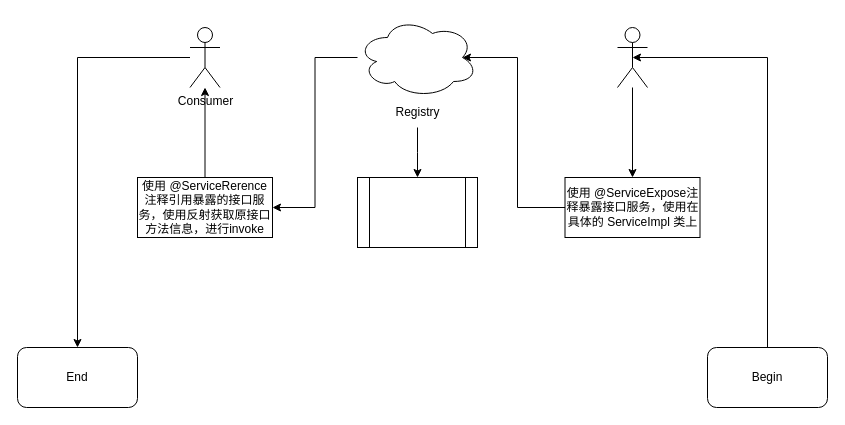
The diagram is 845 pixels wide and 425 high, and some of its shapes have lost their labels. The box of each missing label's shape, as (x1, y1, x2, y2) in pixels:
Provider: (616, 26, 648, 88)
传输使用配置的 Serialization 方式进行，目前支持 Java、JSON: (356, 176, 478, 248)
